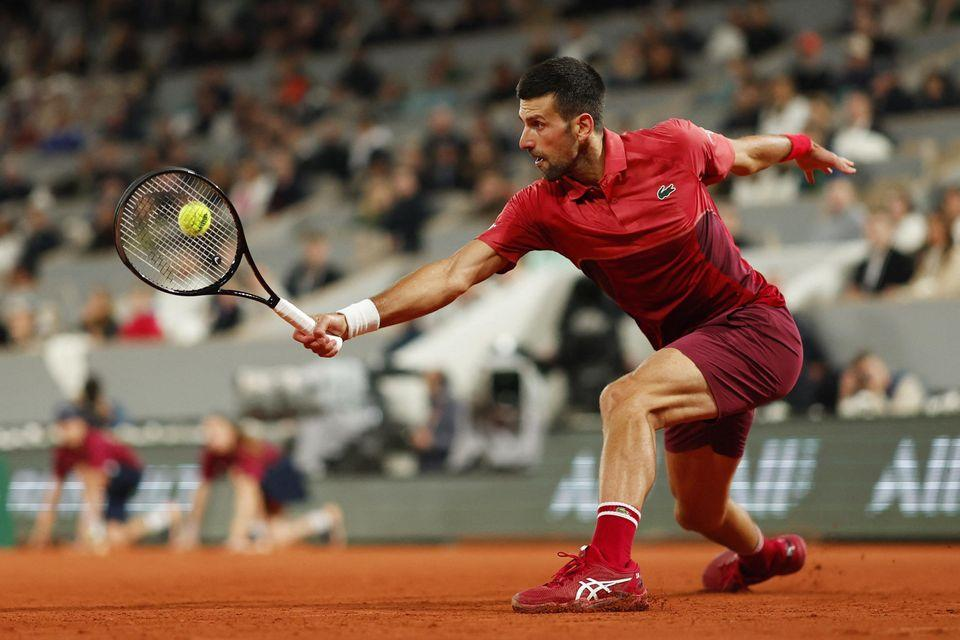ball_tennis: (176, 199, 211, 235)
